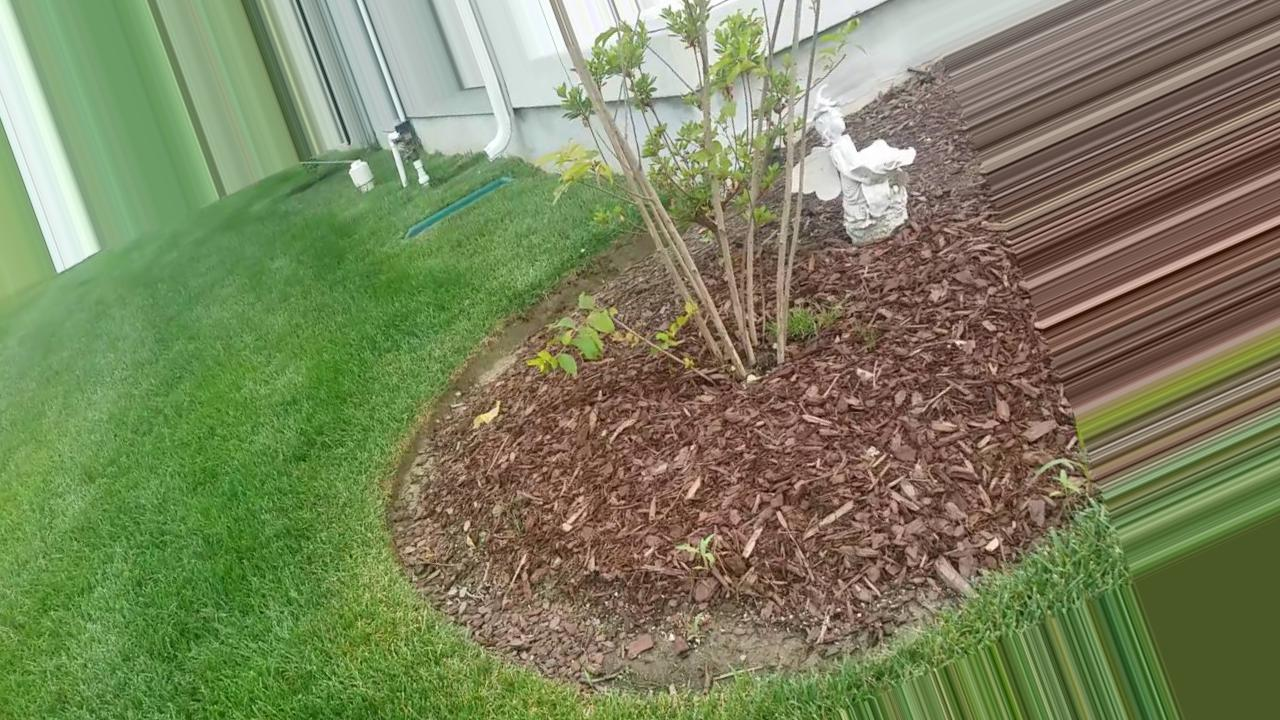patch: (454, 386, 945, 602), (812, 234, 1012, 363)
